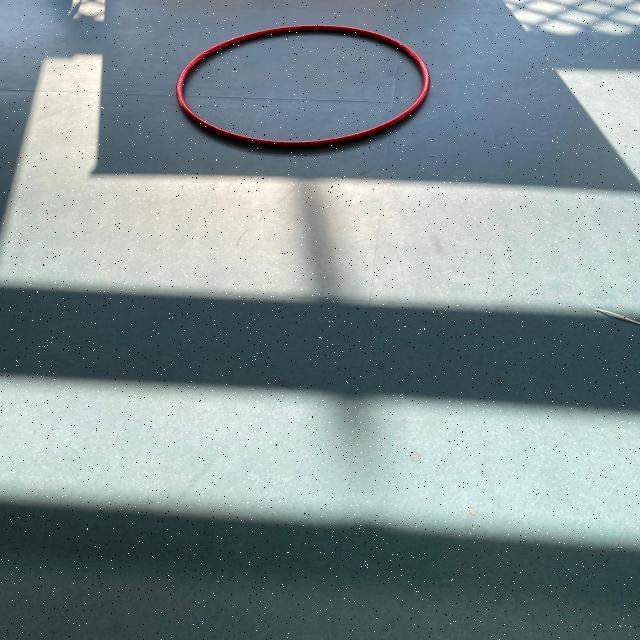Circle: (165, 18, 438, 158)
